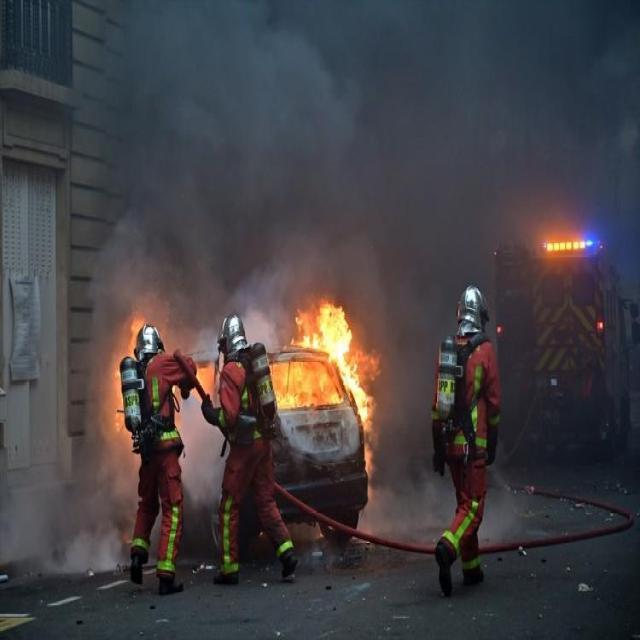Fire: (268, 303, 372, 437)
Smoke: (39, 0, 526, 577)
